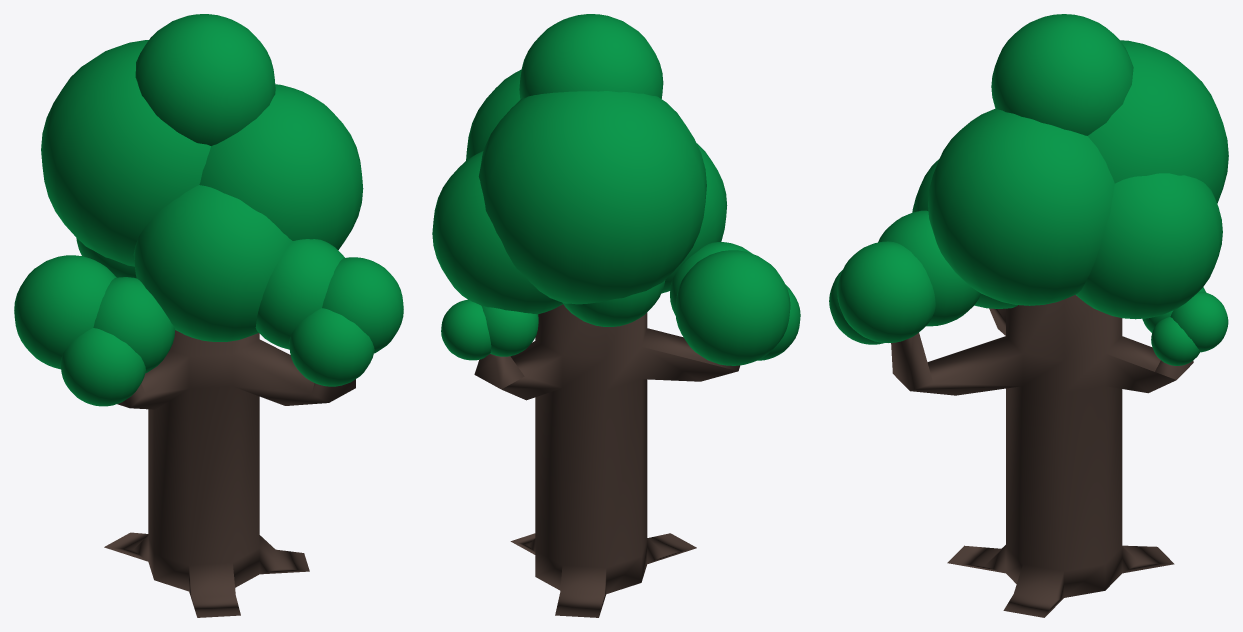
File: tree_solid.fbx
3 views of the same model, side by side, from view 1: azimuth 30°, elevation 25°; view 2: azimuth 150°, elevation 25°; view 3: azimuth 270°, elevation 25° (orthographic).
Visible parts, largest first — view 1: pSphere17; view 2: pSphere17; view 3: pSphere17.
Part boxes in pixels (<box>): pSphere17: <box>14,14,403,617</box>; pSphere17: <box>432,14,800,617</box>; pSphere17: <box>829,14,1228,617</box>.
Size of the model in its own units: 12.65 by 20.96 by 13.74.
